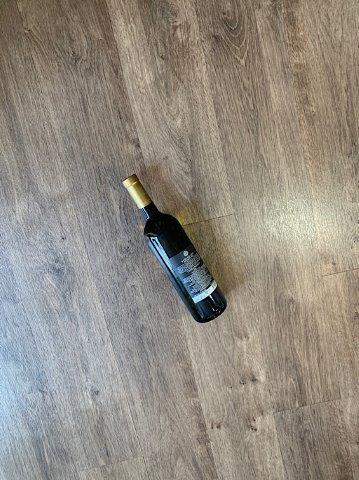botolkaca: (122, 175, 227, 324)
